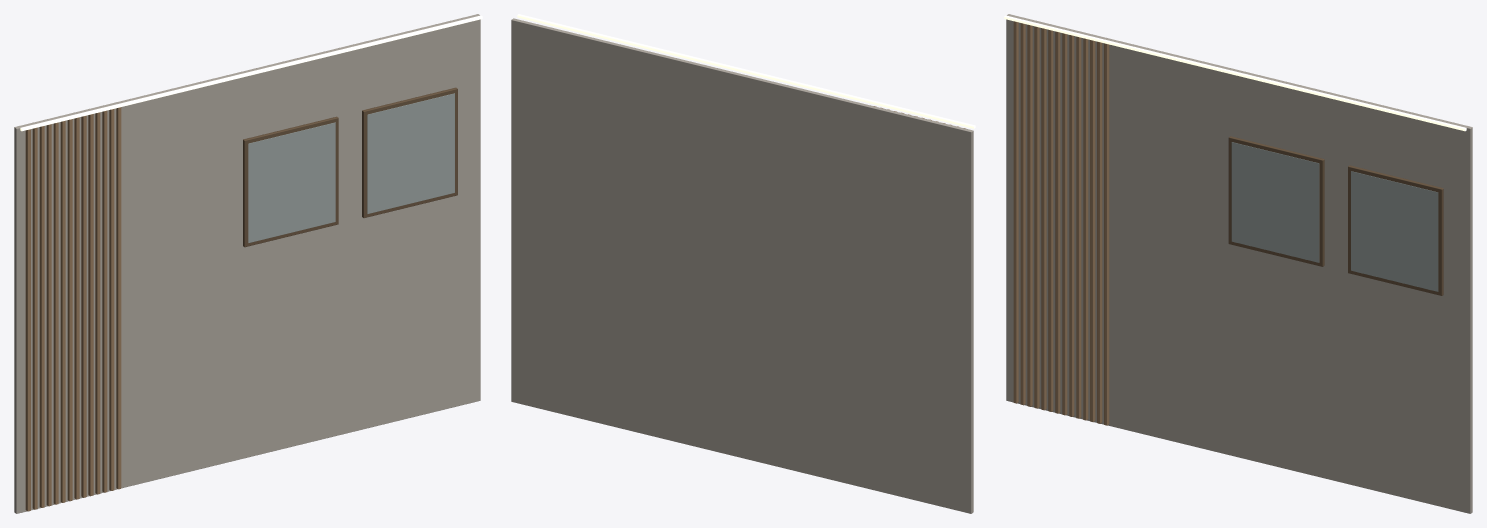
Rendered from sofa-accent-wall.glb.
3 renders of one model, left to right at view 1: azimuth 30°, elevation 25°; view 2: azimuth 150°, elevation 25°; view 3: azimuth 330°, elevation 25°, orthographic.
Visible parts, largest first — view 1: Taupe accent finish; view 2: Taupe accent finish; view 3: Taupe accent finish.
Part boxes in pixels (x1,y1,x2,y2): Taupe accent finish: [14, 14, 482, 513]; Taupe accent finish: [511, 14, 975, 513]; Taupe accent finish: [1004, 14, 1472, 513].
Size of the model in its own units: 3 by 2.39 by 0.067.
